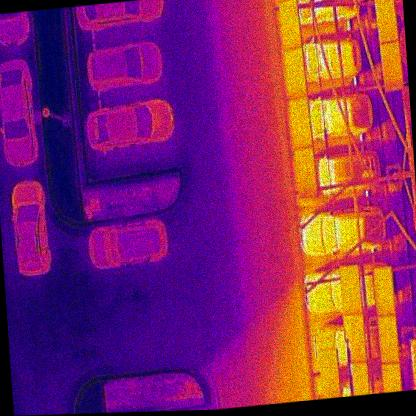Diode: (409, 338, 416, 387)
Normal: (294, 145, 318, 198), (284, 46, 308, 99), (288, 97, 312, 149), (318, 348, 341, 397), (340, 265, 362, 316), (374, 267, 396, 316), (378, 314, 399, 365), (382, 41, 402, 92), (280, 0, 300, 50), (375, 0, 397, 43), (349, 315, 368, 363)
